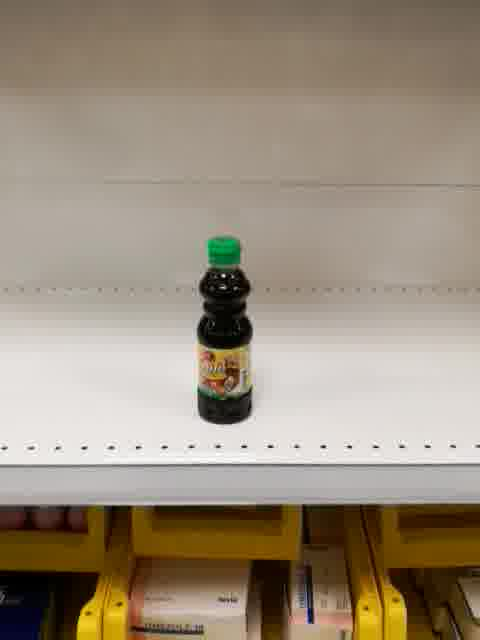cookingoil: (193, 234, 255, 425)
